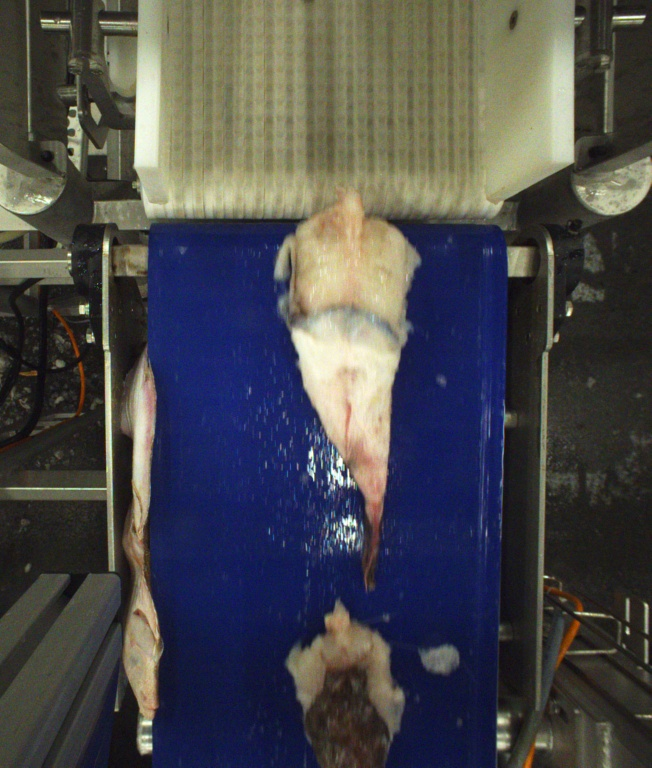ANF: (287, 600, 406, 768)
